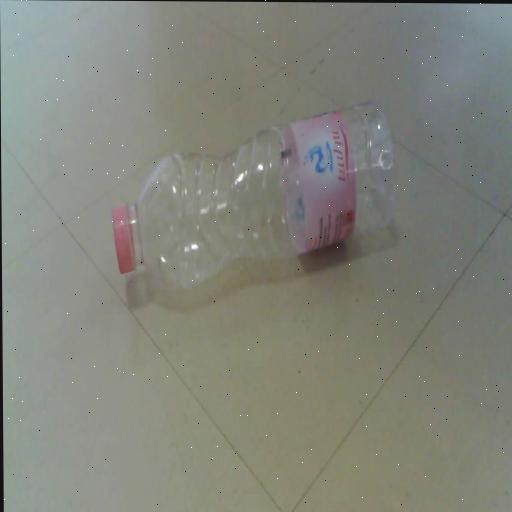bottle: (94, 81, 412, 308)
